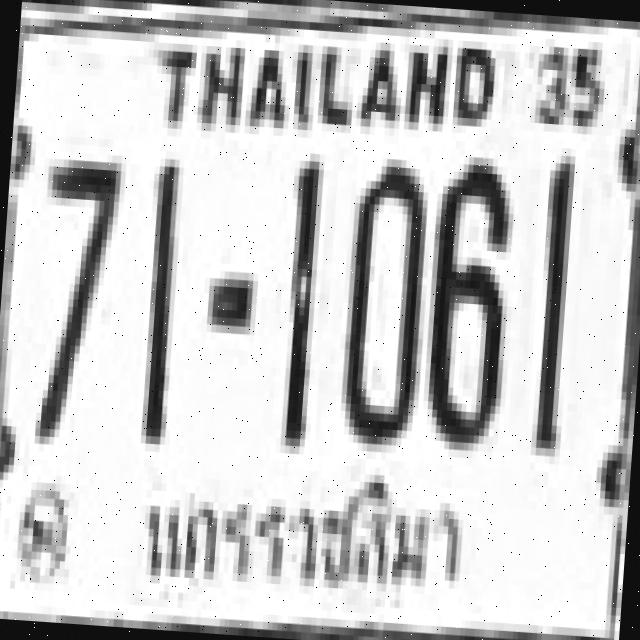0: (336, 156, 427, 438)
1: (528, 154, 572, 448), (278, 156, 322, 442), (136, 162, 179, 440)
6: (420, 154, 512, 444)
7: (30, 150, 116, 440)
NakhonRatchasima: (138, 462, 472, 608)
